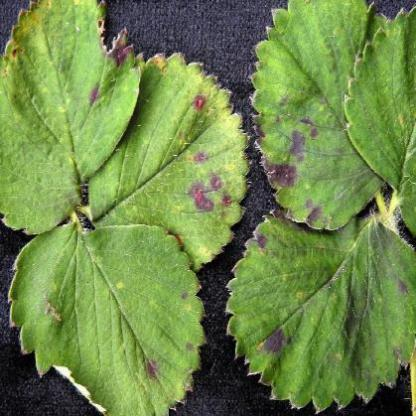Strawberry_Leaf_Spot: (7, 220, 209, 415), (224, 208, 415, 414), (88, 51, 252, 274), (0, 0, 141, 236), (249, 0, 388, 231)
